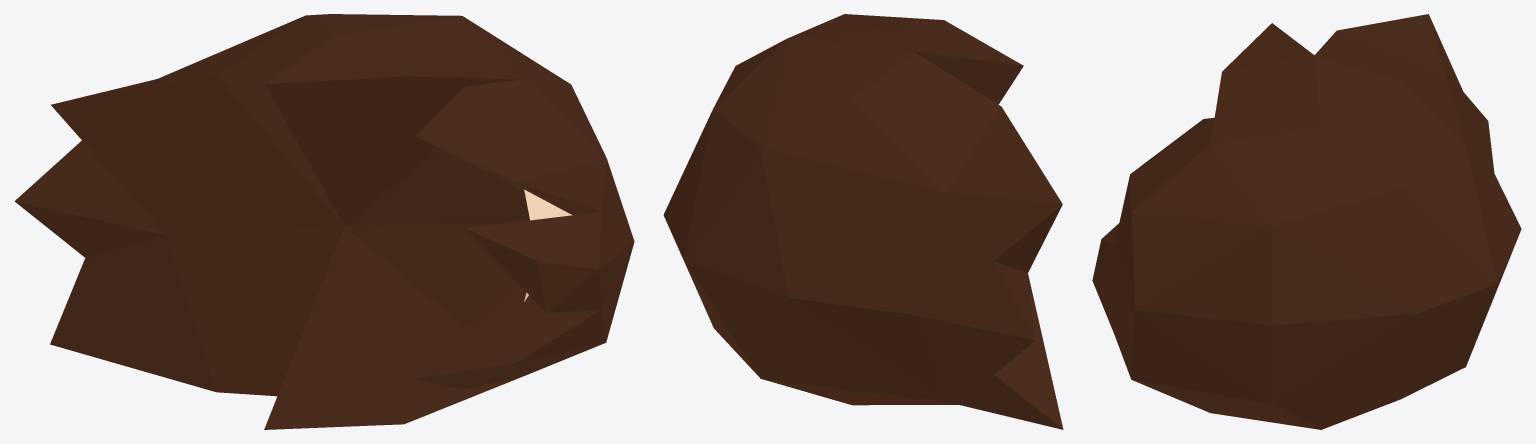
File: hair23.glb
3 renders of one model, left to right at view 1: azimuth 30°, elevation 25°; view 2: azimuth 150°, elevation 25°; view 3: azimuth 270°, elevation 25°, orthographic. The views are drawn at different scales.
Visible parts, largest first — view 1: tomodachi-2026-03-13-22-18-32-242, tomodachi-2026-03-13-22-18-32-242.008; view 2: tomodachi-2026-03-13-22-18-32-242; view 3: tomodachi-2026-03-13-22-18-32-242.
Part boxes in pixels (x1=…): tomodachi-2026-03-13-22-18-32-242: x1=14, y1=14, x2=634, y2=429; tomodachi-2026-03-13-22-18-32-242.008: x1=524, y1=189, x2=572, y2=301; tomodachi-2026-03-13-22-18-32-242: x1=663, y1=14, x2=1063, y2=429; tomodachi-2026-03-13-22-18-32-242: x1=1092, y1=14, x2=1521, y2=429.
Size of the model in its own units: 1.54 by 1.16 by 1.37.
2 materials, 2 textured.
